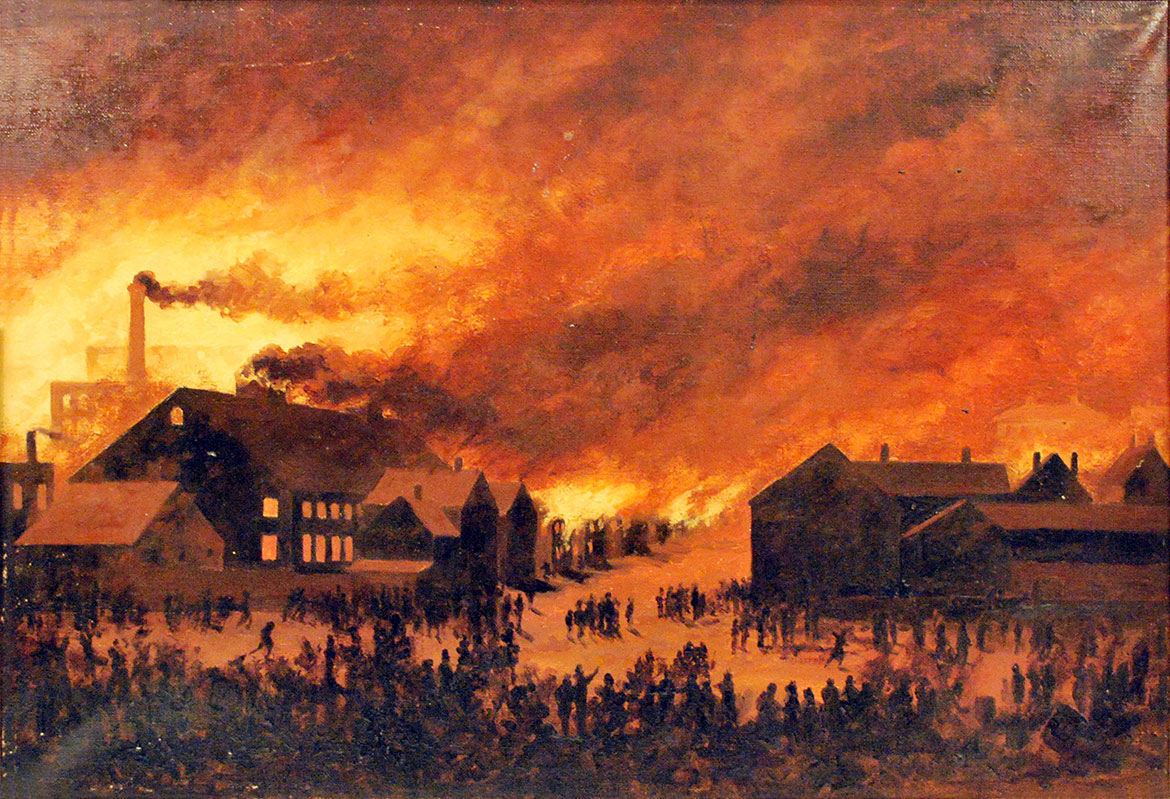Fire: (1, 193, 123, 371), (540, 457, 623, 513)
